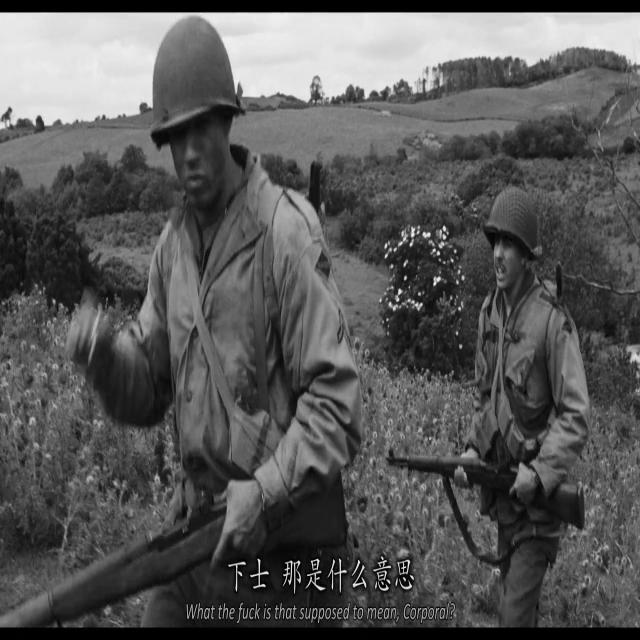Short-Gun: (0, 438, 370, 640), (355, 350, 609, 640)
